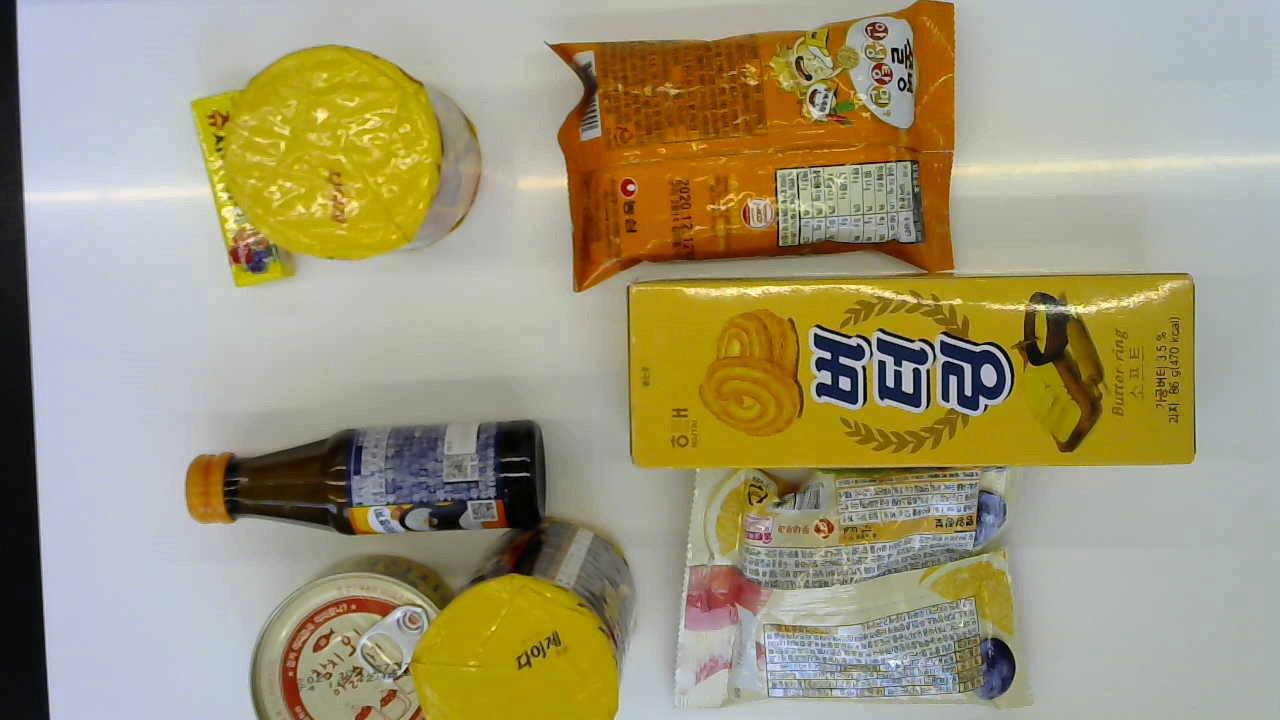buttering: (627, 278, 1198, 470)
diget_choco: (419, 520, 638, 720), (189, 86, 300, 286)
diget_ori: (224, 46, 481, 255), (189, 86, 300, 286)
gumi_gumi: (670, 460, 1035, 707)
jjolbyung_noodle: (556, 2, 956, 277)
juicyfresh: (189, 86, 300, 286)
tuna: (247, 552, 443, 720)
vita500: (173, 420, 546, 533)
